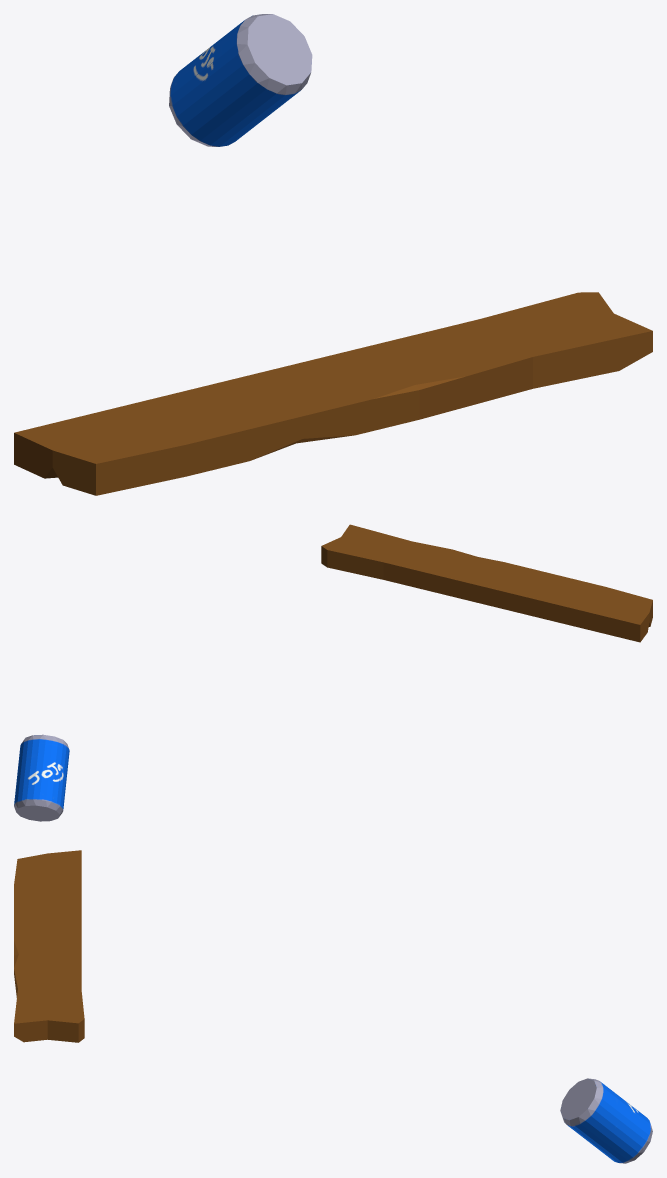
The model's file is debris.glb.
3 views of the same model, one above another, from view 1: azimuth 30°, elevation 25°; view 2: azimuth 150°, elevation 25°; view 3: azimuth 270°, elevation 25° (orthographic). The views are drawn at different scales.
Parts seen in each view (by area): view 1: Debris, JojaCola; view 2: Debris, JojaCola; view 3: Debris, JojaCola.
Boxes of the visible parts, <box> form: Debris: <box>14,292,652,495</box>; JojaCola: <box>169,14,312,146</box>; Debris: <box>321,524,652,642</box>; JojaCola: <box>14,734,69,821</box>; Debris: <box>14,850,84,1042</box>; JojaCola: <box>560,1078,652,1163</box>.
Size of the model in its own units: 0.9828 by 0.2563 by 1.26.
Materials: 2 (1 with a texture image).
